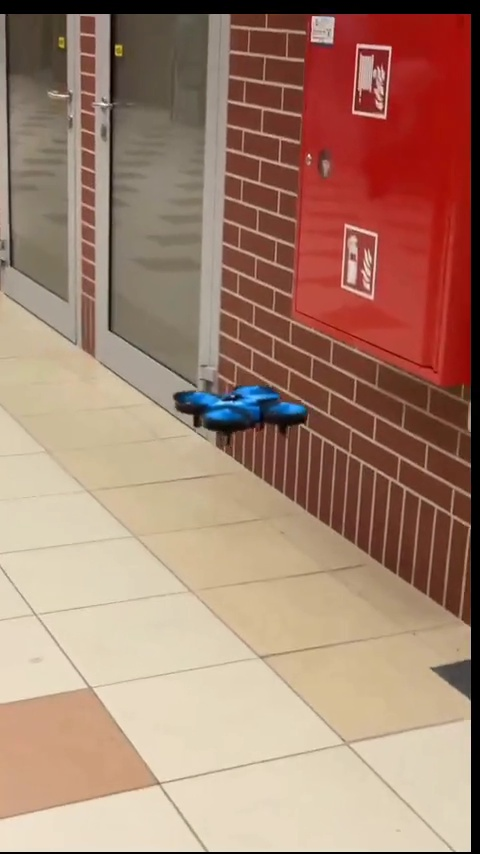drone: (175, 374, 299, 438)
